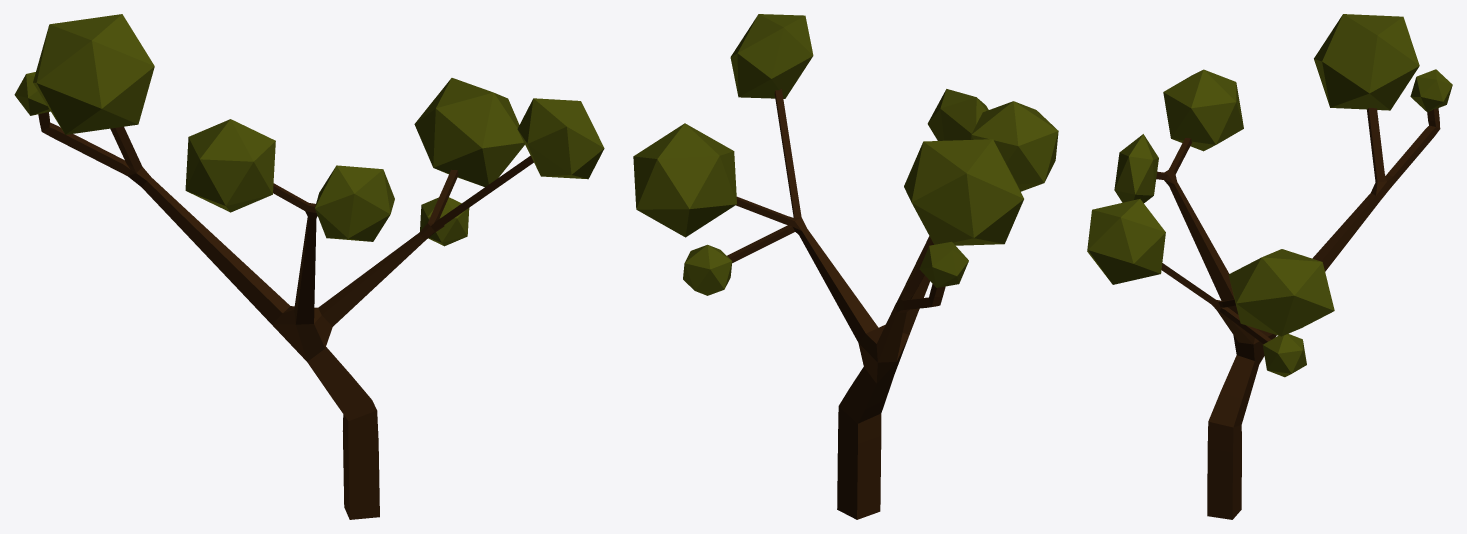
Rendered from spindle_tree.glb.
The picture shows the model from 3 angles, left to right: view 1: azimuth 30°, elevation 25°; view 2: azimuth 150°, elevation 25°; view 3: azimuth 270°, elevation 25°; orthographic projection. The views are drawn at different scales.
Parts seen in each view (by area): view 1: tree_1; view 2: tree_1; view 3: tree_1.
Part boxes in pixels (x1,y1,x2,y2): tree_1: [14, 14, 604, 519]; tree_1: [633, 14, 1058, 519]; tree_1: [1087, 14, 1452, 519].
Size of the model in its own units: 4.74 by 4.95 by 3.98.
